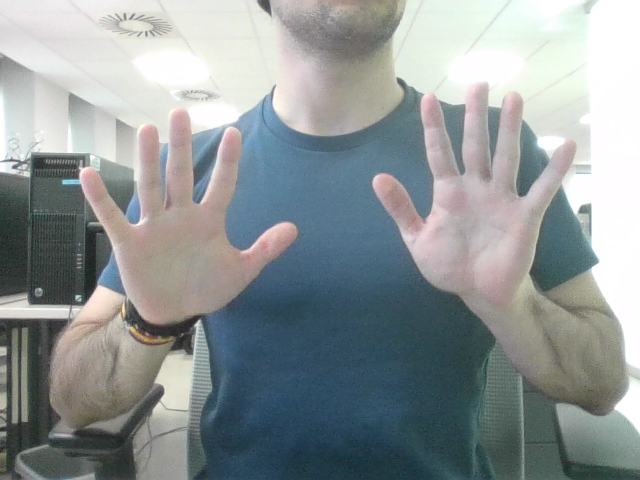Manos Arriba: (113, 101, 543, 287)
